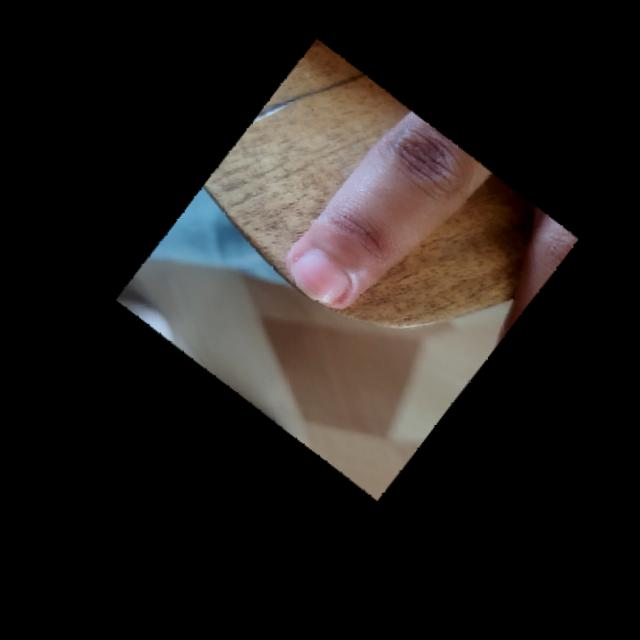Nail: (290, 251, 348, 303)
